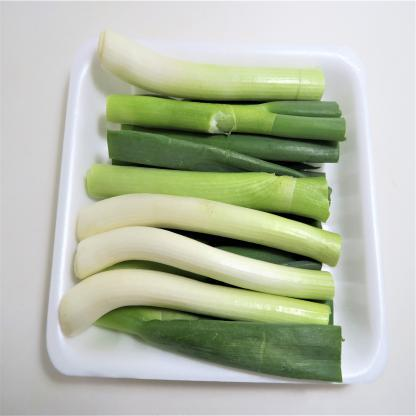green onion: (57, 278, 340, 388), (64, 233, 342, 308), (68, 201, 345, 270), (85, 32, 328, 106), (84, 158, 336, 226), (98, 90, 349, 144)
